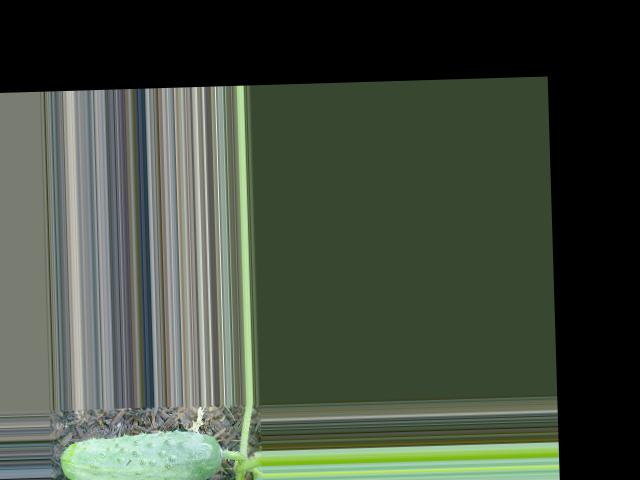cucumber: (58, 429, 222, 480)
